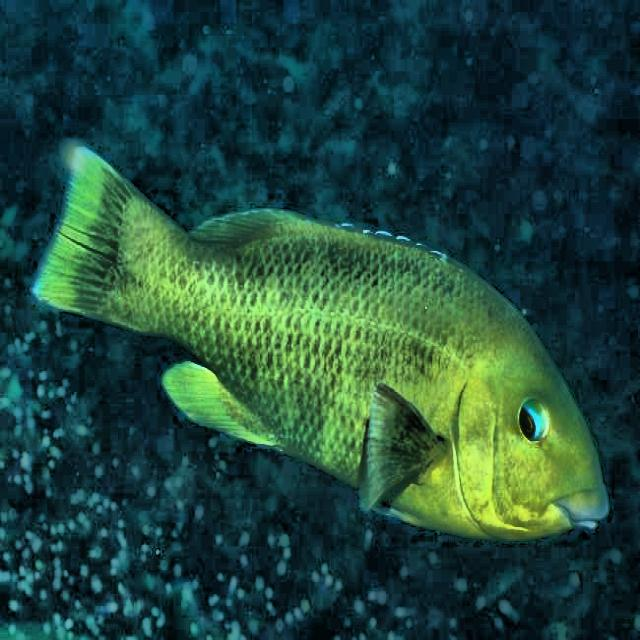fish: (22, 132, 610, 592)
